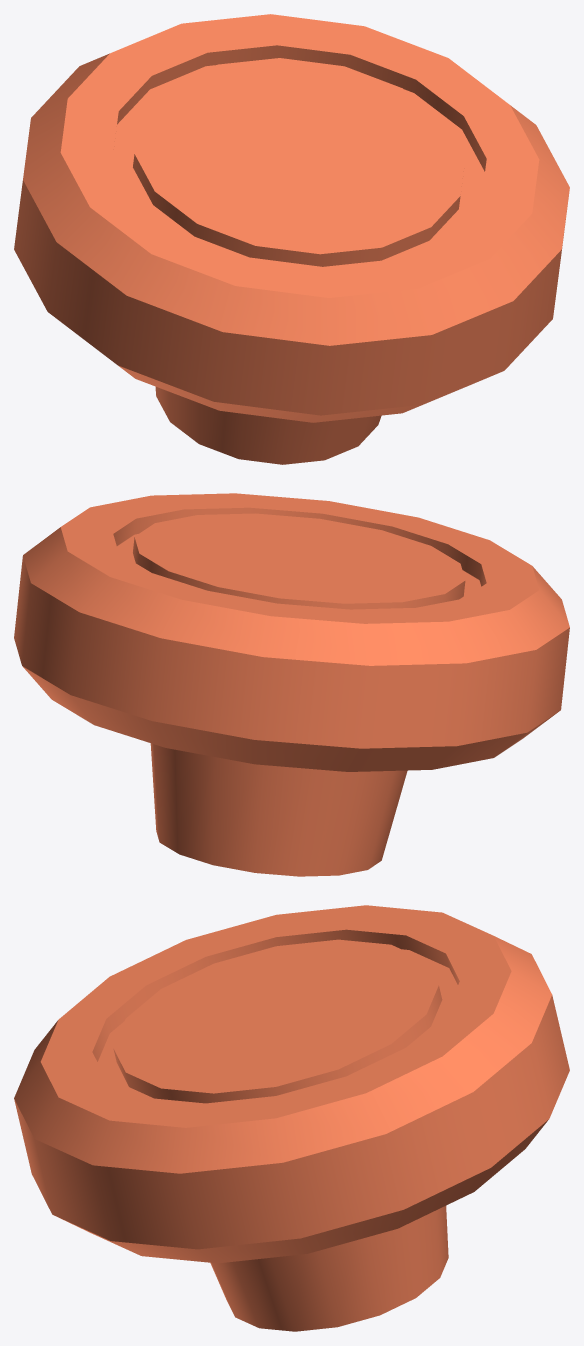
Rendered from rover_OrangeButt.gltf.
3 views of the same model, one above another, from view 1: azimuth 30°, elevation 25°; view 2: azimuth 150°, elevation 25°; view 3: azimuth 270°, elevation 25° (orthographic).
Parts seen in each view (by area): view 1: button_geo1; view 2: button_geo1; view 3: button_geo1.
Boxes of the visible parts, x1,y1,x2,y2 form: button_geo1: [14, 14, 569, 464]; button_geo1: [14, 493, 569, 876]; button_geo1: [14, 905, 569, 1331].
Bounding box in the file's own units: 0.72 × 0.4756 × 0.7275.
